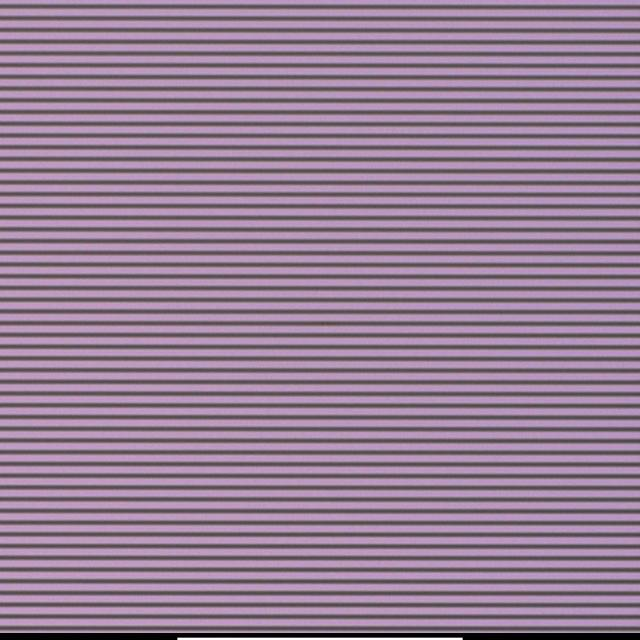03_intrusion: (323, 316, 330, 329)
